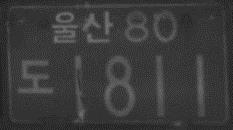0: (151, 9, 178, 43)
1: (66, 52, 90, 121), (150, 53, 173, 119), (190, 52, 212, 118)
8: (102, 55, 137, 117), (124, 8, 149, 43)
도: (18, 56, 57, 95)
울산_O: (49, 10, 117, 45)
